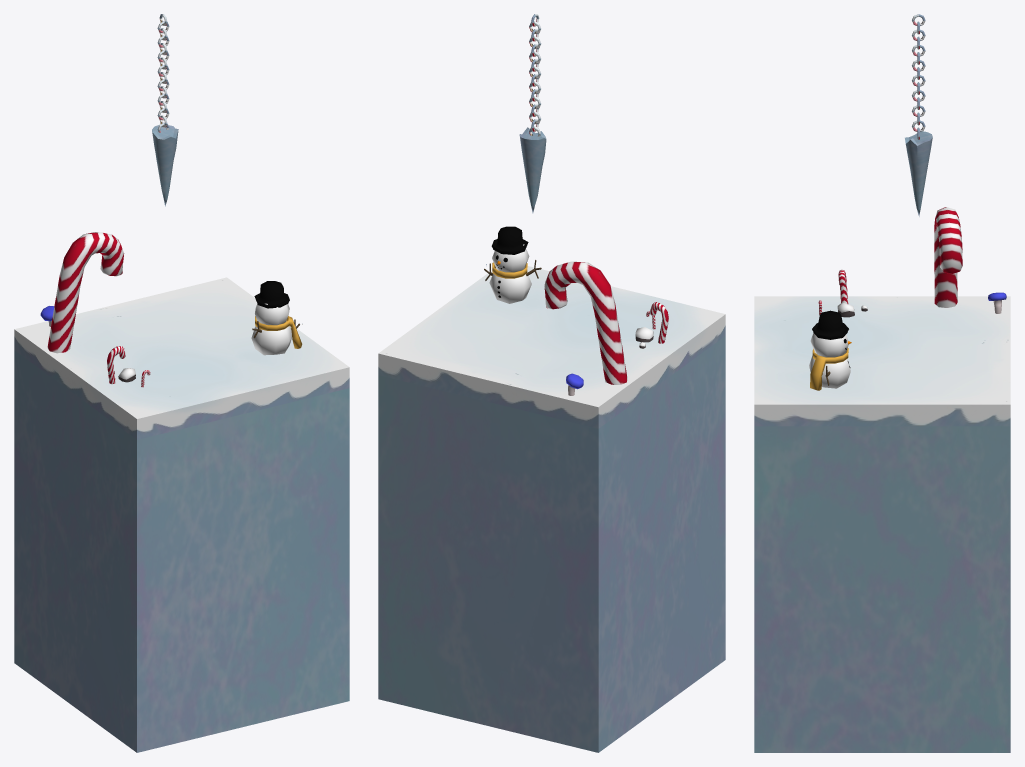
The model's file is Enmedio1Nieve.fbx.
3 views of the same model, side by side, from view 1: azimuth 30°, elevation 25°; view 2: azimuth 150°, elevation 25°; view 3: azimuth 270°, elevation 25° (orthographic). The views are drawn at different scales.
Visible parts, largest first — view 1: Enmedio1Nieve, Cube.032, MuñecoDeNieveMalo, EstalagtitaMalo, Torus.048; view 2: Enmedio1Nieve, Cube.032, MuñecoDeNieveMalo, EstalagtitaMalo, Torus.048; view 3: Enmedio1Nieve, MuñecoDeNieveMalo, Cube.032, EstalagtitaMalo, Torus.048.
Boxes of the visible parts, x1,y1,x2,y2 form: Enmedio1Nieve: (14,277,349,752); Cube.032: (47,232,124,353); MuñecoDeNieveMalo: (251,281,302,355); EstalagtitaMalo: (152,124,178,206); Torus.048: (157,14,169,132); Enmedio1Nieve: (378,266,725,752); Cube.032: (544,261,627,384); MuñecoDeNieveMalo: (489,226,531,303); EstalagtitaMalo: (519,127,546,213); Torus.048: (529,14,541,136); Enmedio1Nieve: (754,296,1010,752); MuñecoDeNieveMalo: (809,310,851,390); Cube.032: (934,207,962,307); EstalagtitaMalo: (905,131,932,216); Torus.048: (912,14,925,139).
Bounding box in the file's own units: 1000 × 2946 × 1000.
